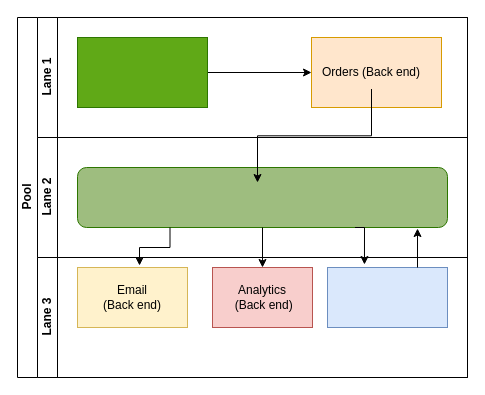
The diagram is 485 pixels wide and 395 high, and some of its shapes have lost their labels. The centre of each missing label's shape, as x and y in pixels:
"Food Ordering Client (Fron end)" belongs at point 142,72.
"Kafka Data Pipeline" belongs at point 262,197.
"Transactions (Back end)" belongs at point 387,297.
